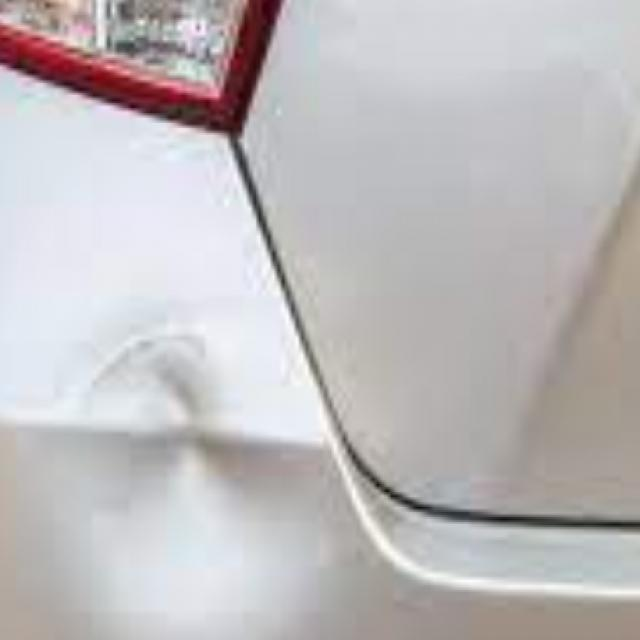dents: (59, 306, 228, 512)
